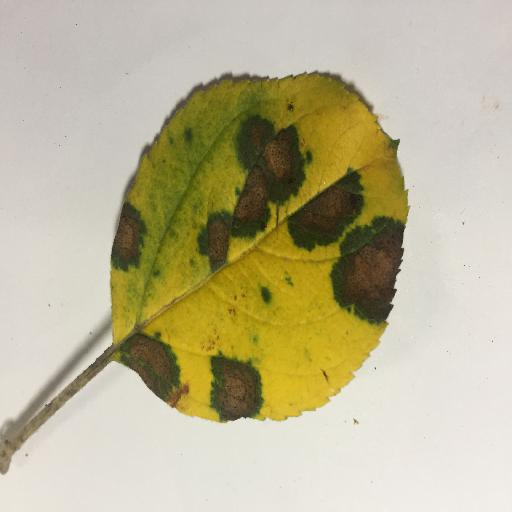Brown_Spot: (207, 124, 293, 255), (347, 218, 394, 324), (297, 170, 360, 239), (205, 353, 267, 421), (125, 333, 183, 401), (110, 199, 131, 274)
